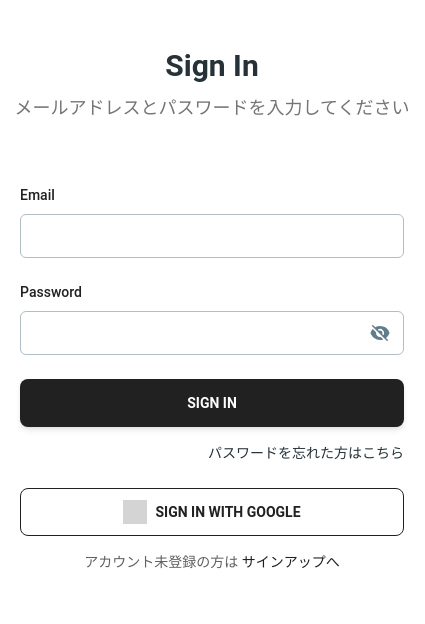
SignInForm › Googleサインインが失敗した場合、エラーメッセージを表示する
The image size is (425, 624).
Click the button "Sign in with Google": (212, 512) top-left (20, 488), bottom-right (404, 536)
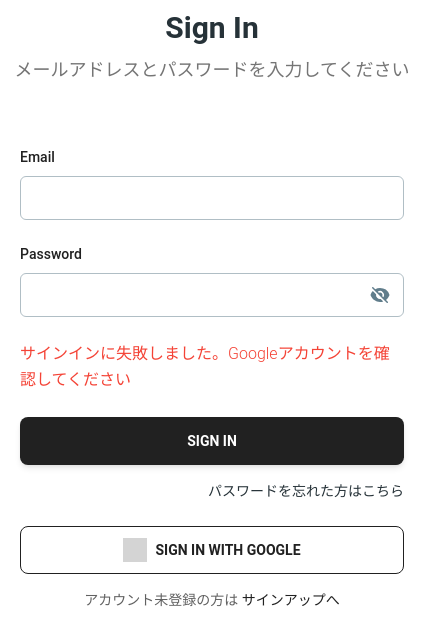
Check: the text "サインインに失敗しました。Googleアカウントを確認してください" is shown, box top-left (20, 341), bottom-right (404, 393)
